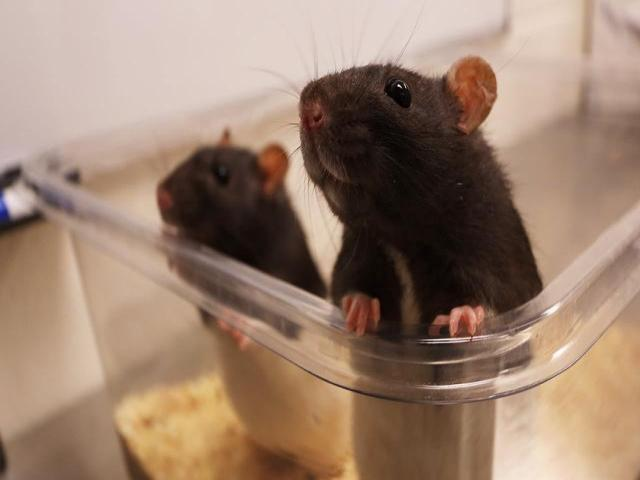Tikus: (278, 39, 546, 336), (147, 124, 306, 295)
